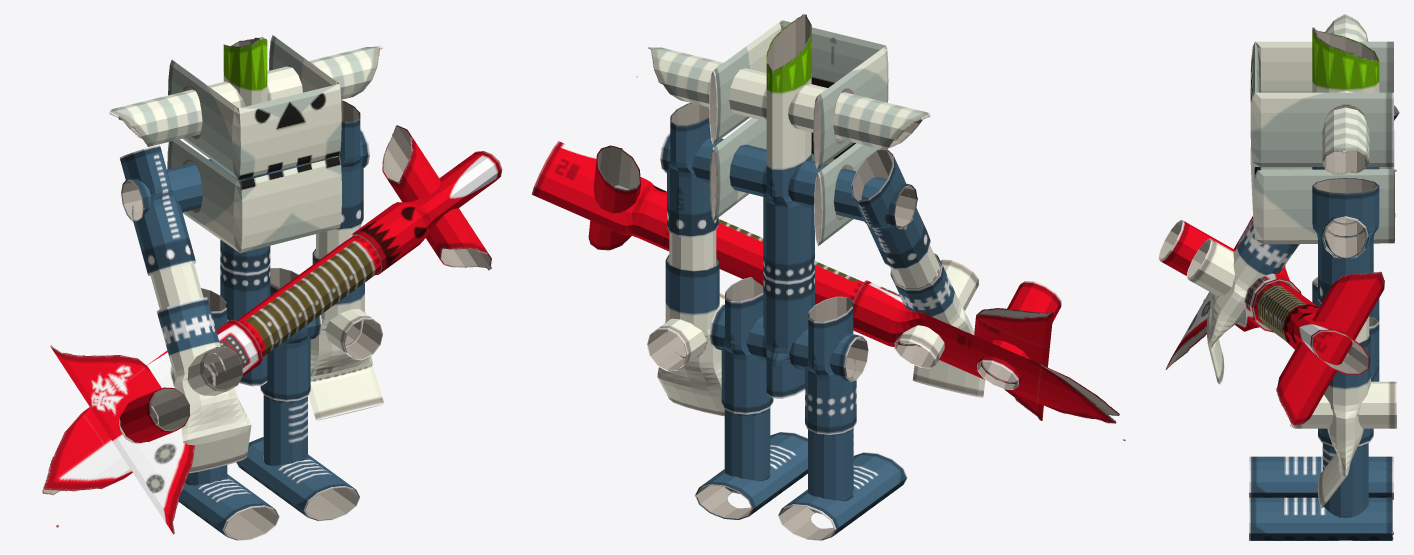
The model's file is geyser.glb.
3 views of the same model, side by side, from view 1: azimuth 30°, elevation 25°; view 2: azimuth 150°, elevation 25°; view 3: azimuth 270°, elevation 25° (orthographic). The views are drawn at different scales.
Visible parts, largest first — view 1: P1 ガイザー_頭_顔 [短冊1-1], P4 ガイザー_胴体_胸 [短冊1-2], P29 ガイザー_道具_ギター本体・前側 [短冊2-7], P19 ガイザー_腕_右手・袖口 [短冊2-2], P35 ガイザー_頭_角・頭の接続軸 [短冊3-1], P58 ガイザー_道具_ギターのネック・弦 [短冊5-4], P31 ガイザー_道具_ギター本体・後ろ側 [短冊2-8], P52 ガイザー_道具_ギター先端・魚の頭 [短冊4-4], P17 ガイザー_腕_左手 [短冊2-1], P59 ガイザー_道具_ギター先端の横パーツ [短冊5-5], P12 ガイザー_腕_右上腕 [短冊1-5], P27 ガイザー_脚_左足 [短冊2-6] (+13 smaller); view 2: P7 ガイザー_胴体_上側の支柱（頭の支え兼用） [短冊1-3], P1 ガイザー_頭_顔 [短冊1-1], P35 ガイザー_頭_角・頭の接続軸 [短冊3-1], P31 ガイザー_道具_ギター本体・後ろ側 [短冊2-8], P52 ガイザー_道具_ギター先端・魚の頭 [短冊4-4], P17 ガイザー_腕_左手 [短冊2-1], P36 ガイザー_胴体_肩の接続軸 [短冊3-2], P21 ガイザー_脚_右脚 [短冊2-3], P4 ガイザー_胴体_胸 [短冊1-2], P23 ガイザー_脚_左脚 [短冊2-4], P14 ガイザー_腕_左上腕 [短冊1-6], P25 ガイザー_脚_右足 [短冊2-5] (+15 smaller); view 3: P1 ガイザー_頭_顔 [短冊1-1], P59 ガイザー_道具_ギター先端の横パーツ [短冊5-5], P4 ガイザー_胴体_胸 [短冊1-2], P27 ガイザー_脚_左足 [短冊2-6], P14 ガイザー_腕_左上腕 [短冊1-6], P19 ガイザー_腕_右手・袖口 [短冊2-2], P25 ガイザー_脚_右足 [短冊2-5], P17 ガイザー_腕_左手 [短冊2-1], P7 ガイザー_胴体_上側の支柱（頭の支え兼用） [短冊1-3], P35 ガイザー_頭_角・頭の接続軸 [短冊3-1], P52 ガイザー_道具_ギター先端・魚の頭 [短冊4-4], P41 ガイザー_腕_左手首の軸 [短冊3-7] (+8 smaller).
Part boxes in pixels (bbox=[...]): P1 ガイザー_頭_顔 [短冊1-1]: bbox=[168, 35, 341, 179]; P4 ガイザー_胴体_胸 [短冊1-2]: bbox=[167, 139, 341, 253]; P29 ガイザー_道具_ギター本体・前側 [短冊2-7]: bbox=[50, 345, 194, 534]; P19 ガイザー_腕_右手・袖口 [短冊2-2]: bbox=[156, 297, 251, 473]; P35 ガイザー_頭_角・頭の接続軸 [短冊3-1]: bbox=[109, 46, 382, 146]; P58 ガイザー_道具_ギターのネック・弦 [短冊5-4]: bbox=[237, 235, 381, 356]; P31 ガイザー_道具_ギター本体・後ろ側 [短冊2-8]: bbox=[42, 320, 262, 527]; P52 ガイザー_道具_ギター先端・魚の頭 [短冊4-4]: bbox=[352, 151, 502, 274]; P17 ガイザー_腕_左手 [短冊2-1]: bbox=[308, 249, 384, 420]; P59 ガイザー_道具_ギター先端の横パーツ [短冊5-5]: bbox=[382, 125, 491, 270]; P12 ガイザー_腕_右上腕 [短冊1-5]: bbox=[120, 145, 195, 275]; P27 ガイザー_脚_左足 [短冊2-6]: bbox=[236, 437, 359, 521]; P7 ガイザー_胴体_上側の支柱（頭の支え兼用） [短冊1-3]: bbox=[763, 14, 814, 282]; P1 ガイザー_頭_顔 [短冊1-1]: bbox=[709, 20, 888, 169]; P35 ガイザー_頭_角・頭の接続軸 [短冊3-1]: bbox=[637, 47, 930, 150]; P31 ガイザー_道具_ギター本体・後ろ側 [短冊2-8]: bbox=[853, 280, 1125, 440]; P52 ガイザー_道具_ギター先端・魚の頭 [短冊4-4]: bbox=[531, 141, 669, 251]; P17 ガイザー_腕_左手 [短冊2-1]: bbox=[657, 255, 724, 416]; P36 ガイザー_胴体_肩の接続軸 [短冊3-2]: bbox=[660, 131, 917, 230]; P21 ガイザー_脚_右脚 [短冊2-3]: bbox=[805, 296, 856, 434]; P4 ガイザー_胴体_胸 [短冊1-2]: bbox=[709, 118, 880, 246]; P23 ガイザー_脚_左脚 [短冊2-4]: bbox=[721, 277, 773, 414]; P14 ガイザー_腕_左上腕 [短冊1-6]: bbox=[667, 103, 718, 237]; P25 ガイザー_脚_右足 [短冊2-5]: bbox=[778, 452, 907, 540]; P1 ガイザー_頭_顔 [短冊1-1]: bbox=[1250, 41, 1393, 166]; P59 ガイザー_道具_ギター先端の横パーツ [短冊5-5]: bbox=[1276, 271, 1384, 428]; P4 ガイザー_胴体_胸 [短冊1-2]: bbox=[1250, 130, 1396, 244]; P27 ガイザー_脚_左足 [短冊2-6]: bbox=[1249, 497, 1393, 540]; P14 ガイザー_腕_左上腕 [短冊1-6]: bbox=[1312, 178, 1379, 303]; P19 ガイザー_腕_右手・袖口 [短冊2-2]: bbox=[1206, 224, 1299, 384]; P25 ガイザー_脚_右足 [短冊2-5]: bbox=[1249, 456, 1393, 499]; P17 ガイザー_腕_左手 [短冊2-1]: bbox=[1317, 331, 1370, 508]; P7 ガイザー_胴体_上側の支柱（頭の支え兼用） [短冊1-3]: bbox=[1312, 27, 1379, 169]; P35 ガイザー_頭_角・頭の接続軸 [短冊3-1]: bbox=[1322, 14, 1369, 174]; P52 ガイザー_道具_ギター先端・魚の頭 [短冊4-4]: bbox=[1282, 303, 1369, 374]; P41 ガイザー_腕_左手首の軸 [短冊3-7]: bbox=[1294, 381, 1396, 428].
Size of the model in its own units: 0.1039 by 0.0891 by 0.04.
56 materials, 56 textured.
